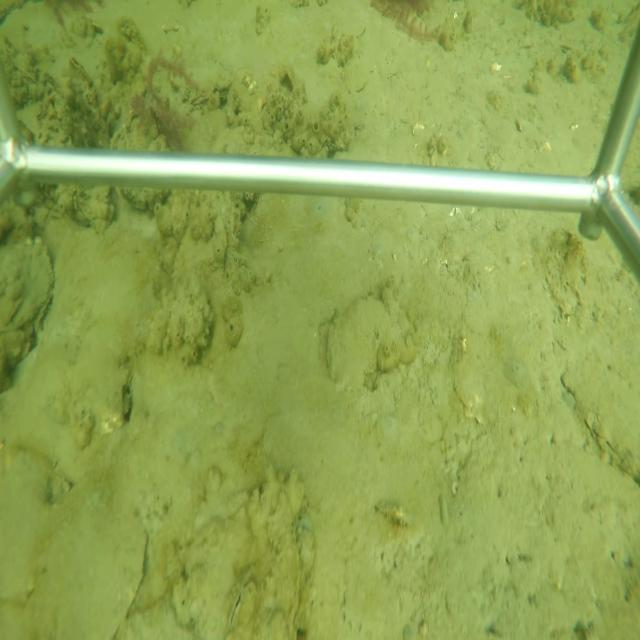Oyster-Closed: (558, 350, 640, 487), (3, 240, 57, 385), (228, 564, 257, 635)
Oyster-Indeterminate: (24, 470, 151, 640), (324, 293, 420, 389)
